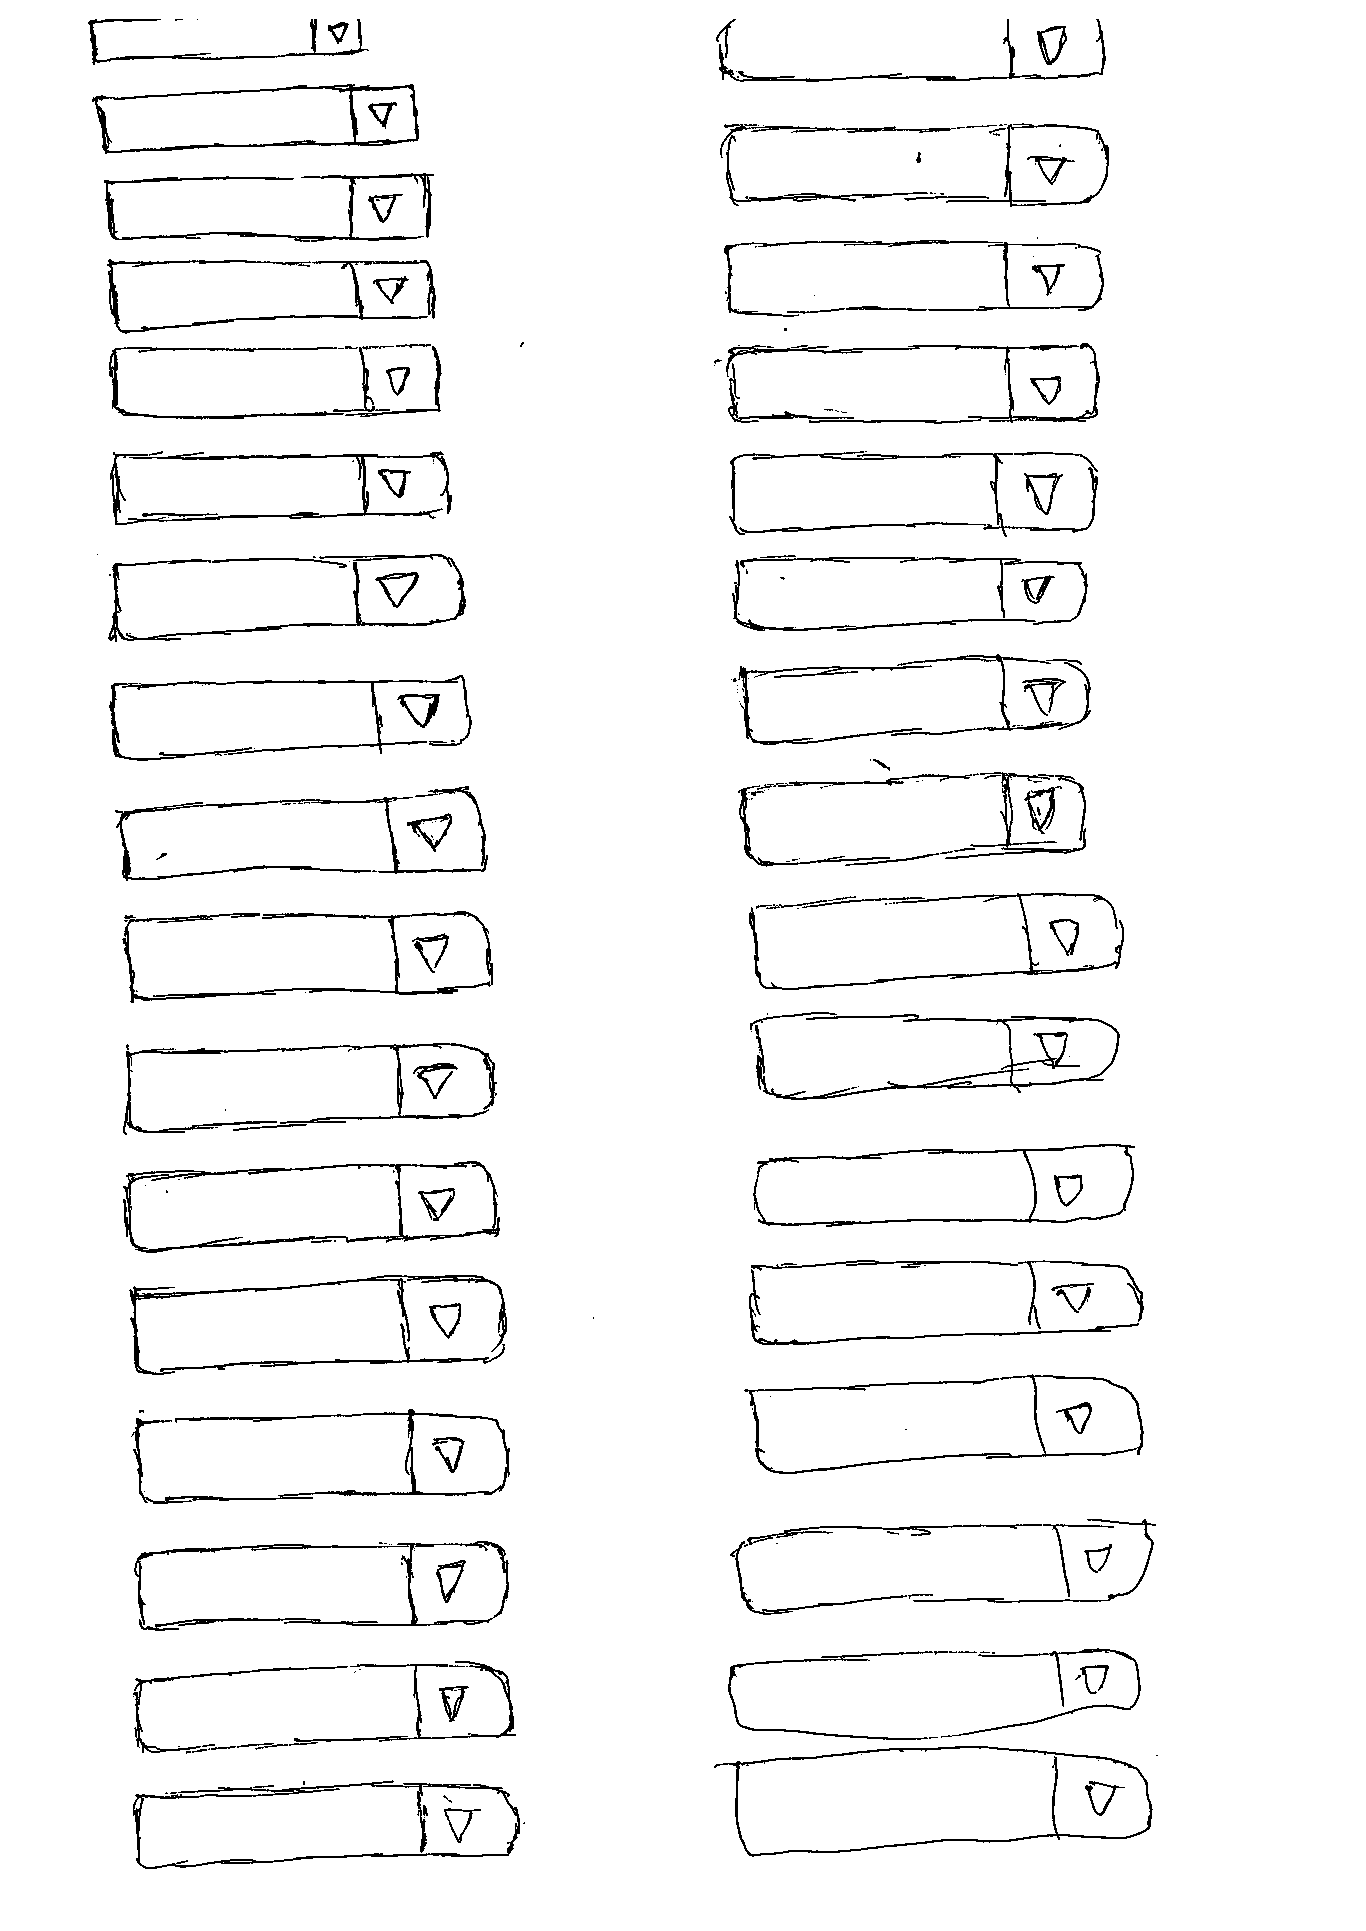Select: (730, 1745, 1158, 1859), (732, 1513, 1156, 1619), (129, 1272, 509, 1377), (747, 1252, 1149, 1351), (115, 787, 489, 889), (132, 1659, 520, 1757), (750, 892, 1127, 992), (132, 1538, 509, 1635), (129, 1779, 526, 1870), (124, 1039, 500, 1136), (136, 1411, 512, 1507), (750, 1138, 1137, 1232), (123, 1159, 503, 1254), (750, 1008, 1124, 1104), (109, 549, 466, 649), (123, 909, 500, 1004), (721, 336, 1101, 427), (721, 118, 1109, 207), (741, 772, 1091, 869), (106, 674, 475, 764), (739, 656, 1094, 750), (724, 449, 1097, 537), (717, 237, 1107, 319), (106, 337, 449, 427), (727, 552, 1090, 636), (106, 451, 452, 529), (89, 78, 424, 157), (101, 167, 435, 245), (106, 259, 446, 334)
